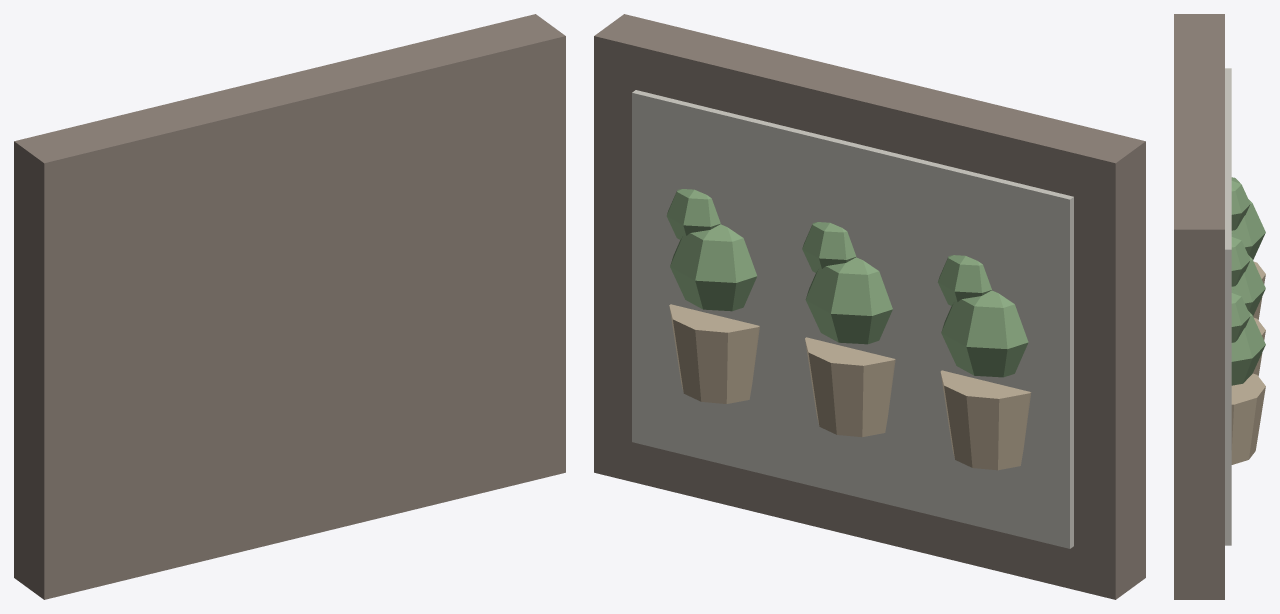
The model's file is parede_quadro_horta.glb.
The picture shows the model from 3 angles, left to right: view 1: azimuth 30°, elevation 25°; view 2: azimuth 150°, elevation 25°; view 3: azimuth 270°, elevation 25°; orthographic projection. The views are drawn at different scales.
Visible parts, largest first — view 1: PAREDE_QUADRO_HORTA_v01; view 2: PAREDE_QUADRO_HORTA_v01; view 3: PAREDE_QUADRO_HORTA_v01.
Part boxes in pixels (box(x1,y1,x2,y2)): PAREDE_QUADRO_HORTA_v01: box(14, 14, 565, 599); PAREDE_QUADRO_HORTA_v01: box(594, 14, 1145, 599); PAREDE_QUADRO_HORTA_v01: box(1174, 14, 1265, 599).
Size of the model in its own units: 0.5 by 0.4 by 0.09.
